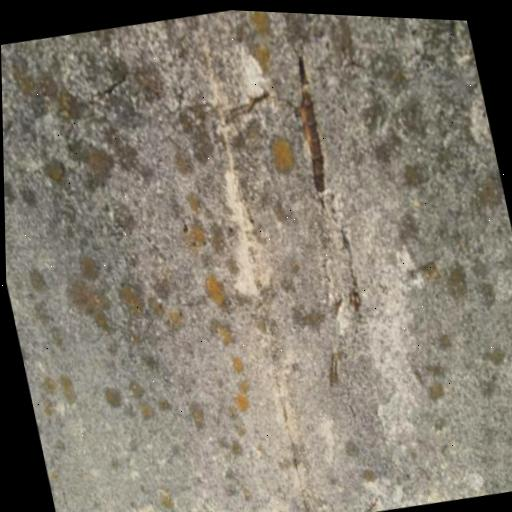exposed_rebar: (299, 56, 325, 192)
